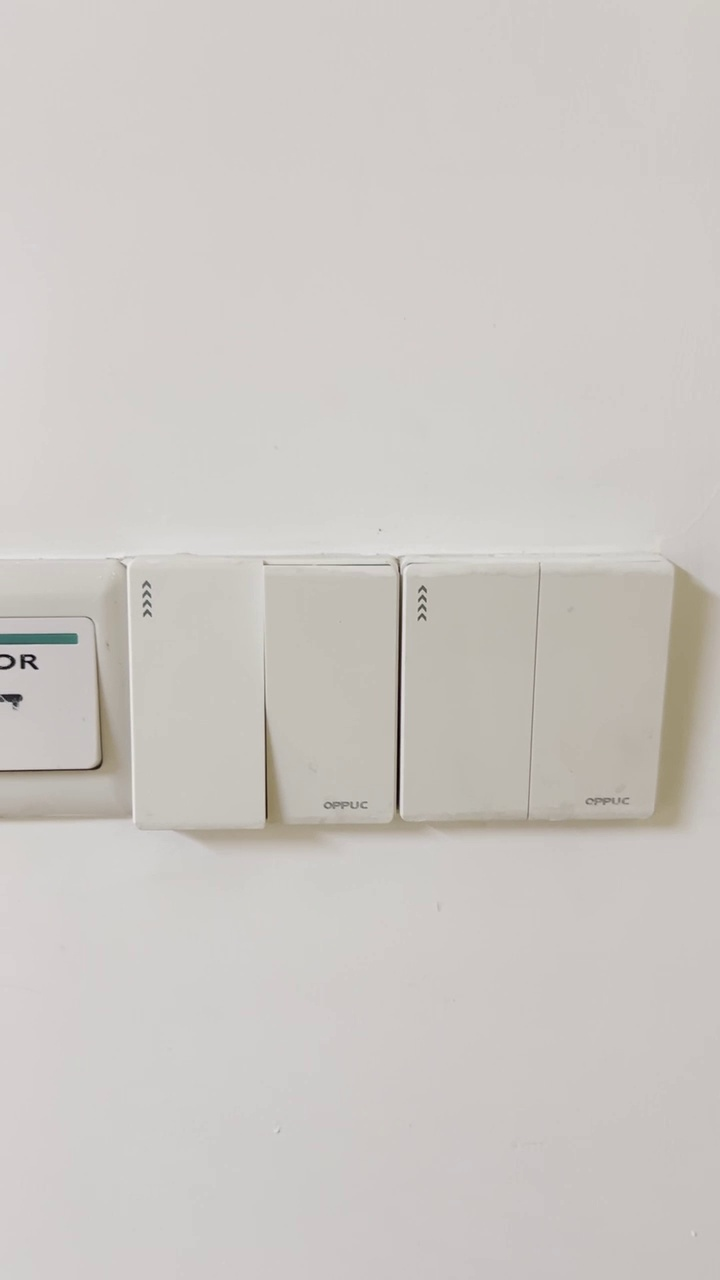button1: (535, 564, 662, 819), (134, 568, 259, 825), (268, 567, 393, 821), (406, 569, 526, 815)
